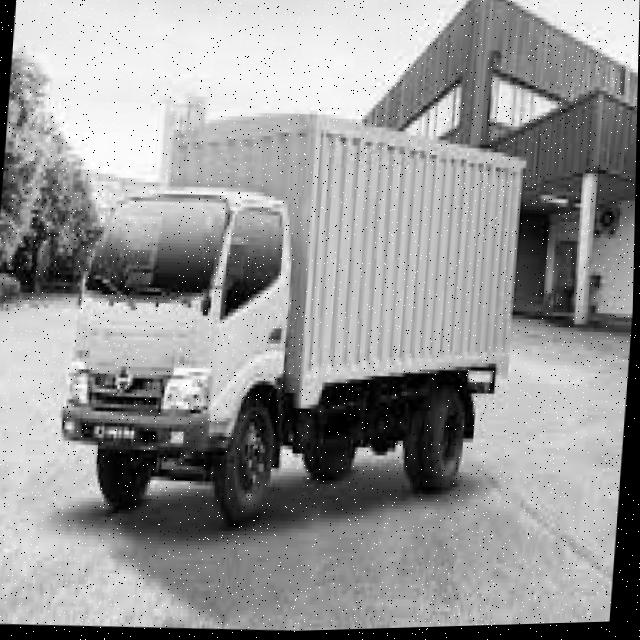truck: (10, 147, 339, 550)
